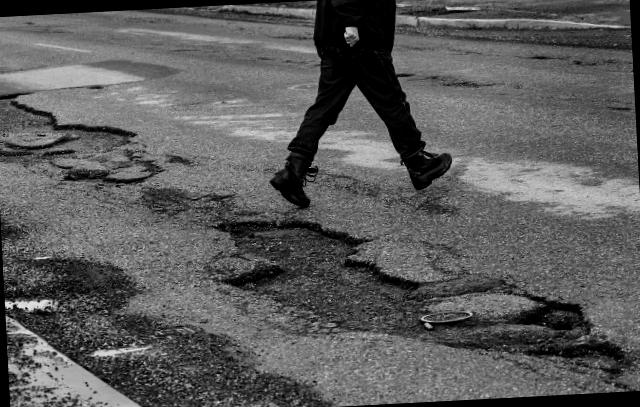Pothole: (210, 178, 616, 372), (17, 221, 308, 407), (0, 87, 195, 221)
